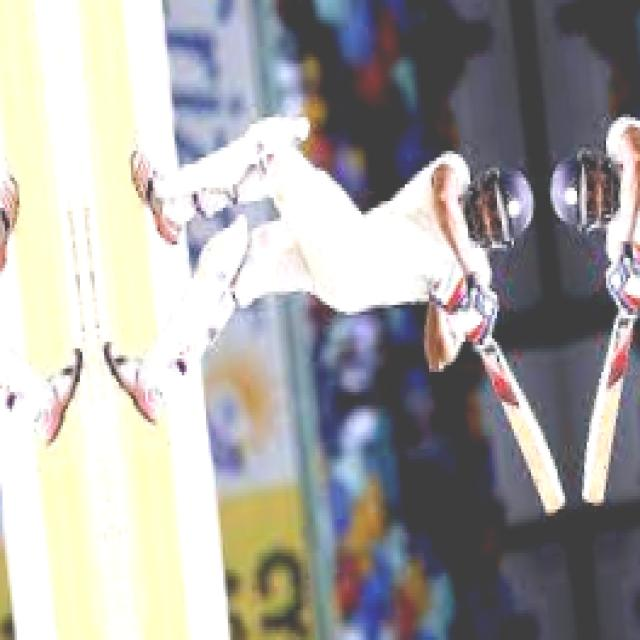toe: (541, 493, 569, 515)
